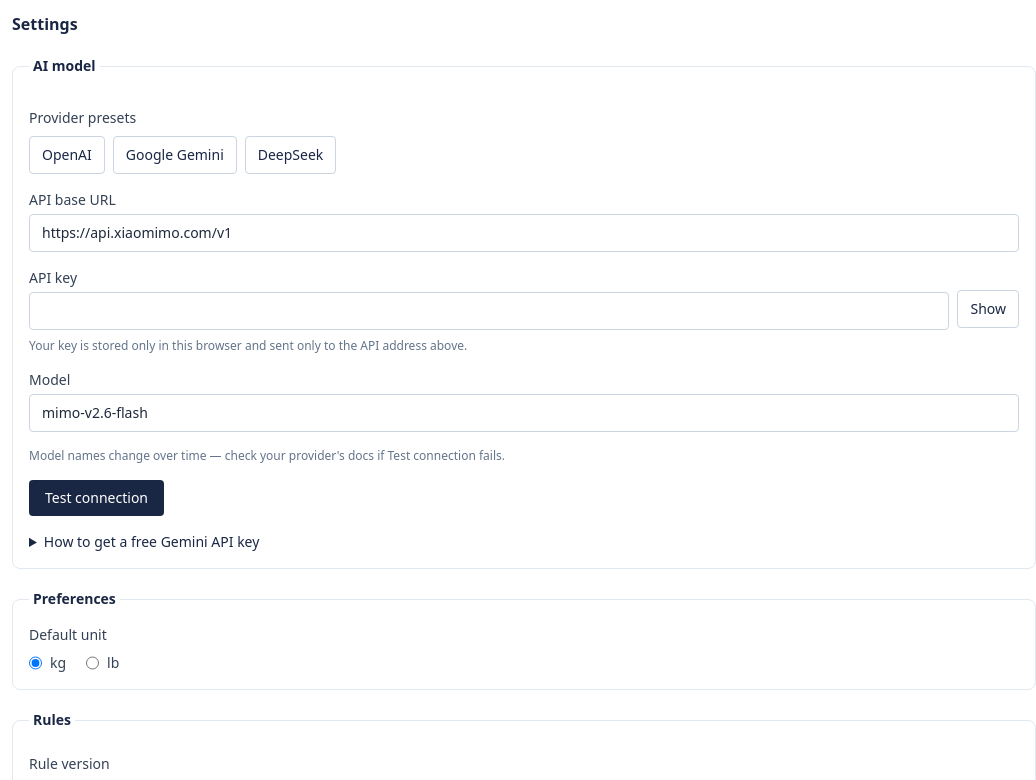
Scenario: missing key fails locally with no fetch
Click the button "Test connection". click: (96, 498)
box: x1=29 y1=480 x2=164 y2=516
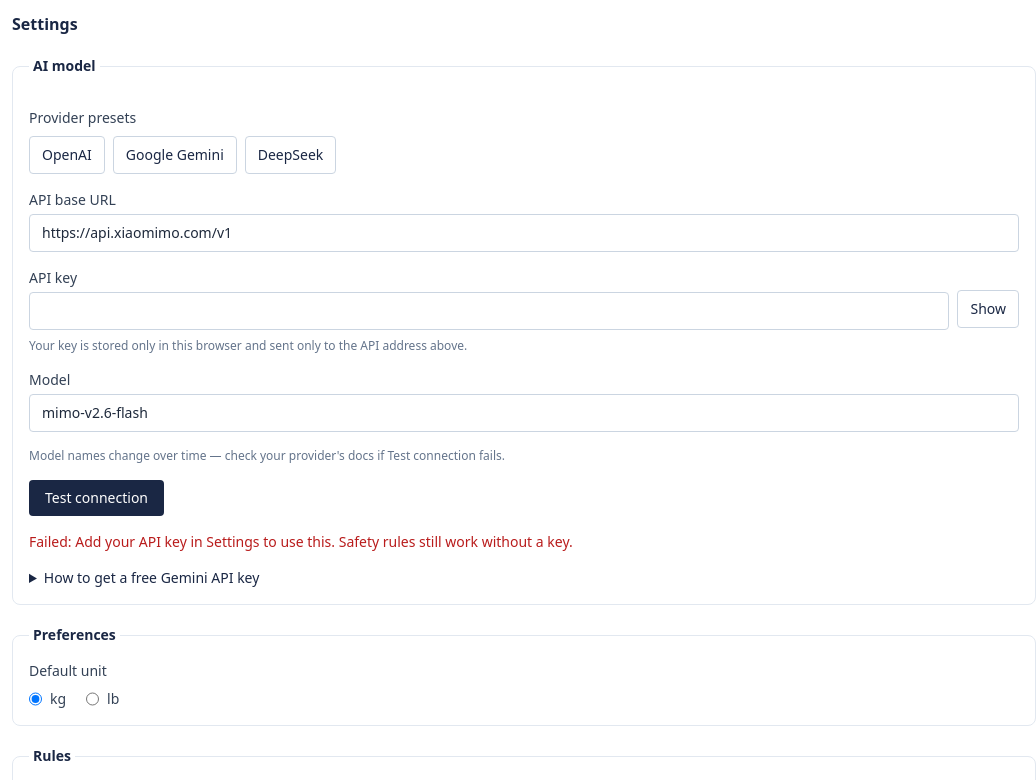
Check: the message shows "Failed: Add your API key in Settings", box x1=29 y1=532 x2=573 y2=551
